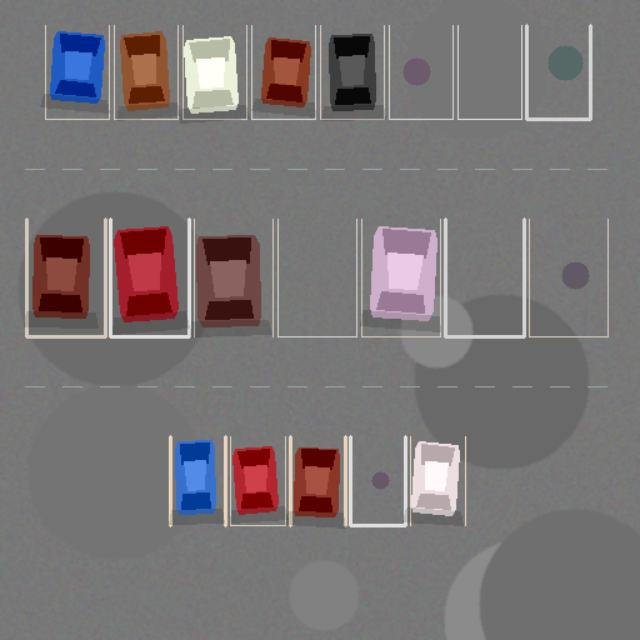space-empty: (277, 219, 356, 336), (445, 219, 524, 336), (529, 219, 607, 336), (389, 25, 453, 119), (457, 25, 521, 119), (526, 25, 590, 119), (350, 436, 405, 525)
space-occupied: (26, 219, 105, 336), (110, 219, 189, 336), (194, 219, 273, 336), (361, 219, 440, 336), (45, 25, 109, 119), (251, 25, 315, 119), (320, 25, 384, 119), (114, 25, 177, 119), (183, 25, 246, 119), (170, 436, 225, 525), (230, 436, 285, 525), (290, 436, 345, 525), (410, 436, 465, 525)
